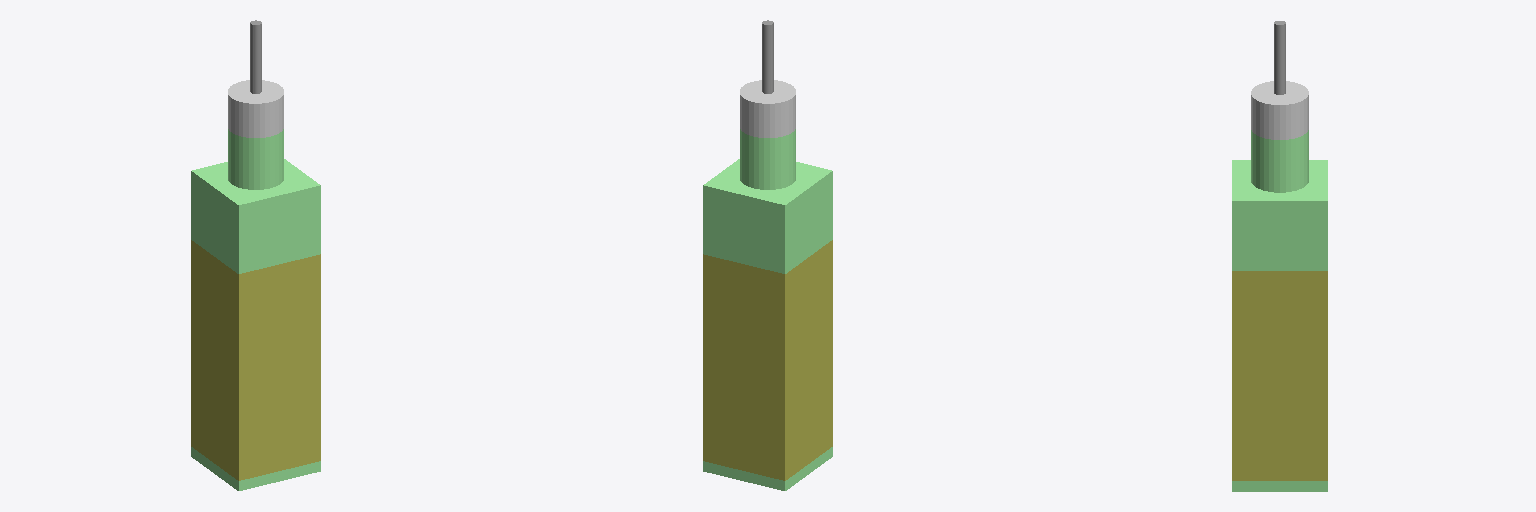
robot.urdf — oil:
<robot name="oil">
  <link name="oil">

    <!-- Bottom glass -->
    <collision>
      <origin xyz="0 0 0.003" />
      <geometry>
        <box size="0.05 0.05 0.006"/>
      </geometry>
    </collision>
    <visual>
      <origin xyz="0 0 0.003" />
      <material name="glass">
        <color rgba="0.68 0.98 0.68 0.38" />
      </material>
      <geometry>
        <box size="0.05 0.05 0.006"/>
      </geometry>
    </visual>

    <!-- Oil -->
    <collision>
      <origin xyz="0 0 0.066" />
      <geometry>
        <box size="0.05 0.05 0.12"/>
      </geometry>
    </collision>
    <visual>
      <origin xyz="0 0 0.066" />
      <material name="oil">
        <color rgba="0.78 0.78 0.38 0.58" />
      </material>
      <geometry>
        <box size="0.05 0.05 0.12"/>
      </geometry>
    </visual>

    <!-- Top glass -->
    <collision>
      <origin xyz="0 0 0.146" />
      <geometry>
        <box size="0.05 0.05 0.04"/>
      </geometry>
    </collision>
    <visual>
      <origin xyz="0 0 0.146" />
      <material name="glass">
        <color rgba="0.68 0.98 0.68 0.38"/>
      </material>
      <geometry>
        <box size="0.05 0.05 0.04"/>
      </geometry>
    </visual>
    
    <!-- Glass neck -->
    <collision>
      <origin xyz="0 0 0.181" />
      <geometry>
        <cylinder radius="0.015" length="0.03" />
      </geometry>
    </collision>
    <visual>
      <origin xyz="0 0 0.181" />
      <material name="glass">
        <color rgba="0.68 0.98 0.68 0.38"/>
      </material>
      <geometry>
        <cylinder radius="0.015" length="0.03" />
      </geometry>
    </visual>    

    <!-- Lid -->
    <collision>
      <origin xyz="0 0 0.206" />
      <geometry>
        <cylinder radius="0.015" length="0.02" />
      </geometry>
    </collision>
    <visual>
      <origin xyz="0 0 0.206" />
      <material name="black">
        <color rgba="0.88 0.88 0.88 1.0" />
      </material>
      <geometry>
        <cylinder radius="0.015" length="0.02" />
      </geometry>
    </visual>

    <!-- Nozzle -->
    <collision>
      <origin xyz="0 0 0.236" />
      <geometry>
        <cylinder radius="0.003" length="0.04"/>
      </geometry>
    </collision>
    <visual>
      <origin xyz="0 0 0.236"/>
      <material name="steel">
        <color rgba="0.68 0.68 0.68 1.0" />
      </material>
      <geometry>
        <cylinder radius="0.003" length="0.04"/>
      </geometry>
    </visual>
  </link>
</robot>

--- What the picture shows (computed from the rendered views, not written in the file) ---
The picture shows the robot from 3 angles, left to right: view 1: azimuth 30°, elevation 25°; view 2: azimuth 150°, elevation 25°; view 3: azimuth 270°, elevation 25°; orthographic projection.
Robot: oil — 1 links, 0 joints (none); root link oil; default pose: every joint at zero.
Visible links, largest first — view 1: oil; view 2: oil; view 3: oil.
Link boxes in pixels (left/top/right/bottom): oil: left=191, top=20, right=320, bottom=490; oil: left=703, top=20, right=832, bottom=490; oil: left=1232, top=21, right=1327, bottom=491.
Bounding box of the posed robot: 0.05 × 0.05 × 0.256 m (x, y, z).
Geometry: primitives only (box / cylinder / sphere), no mesh files.